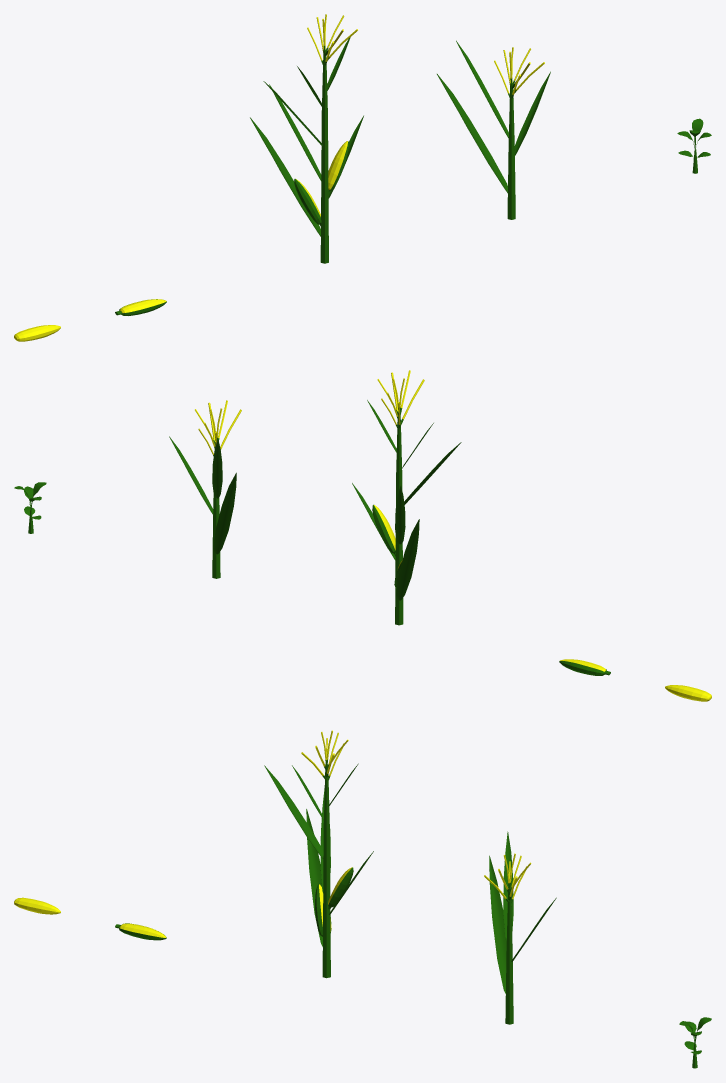
Rendered from corn.fbx.
3 renders of one model, top to bottom at view 1: azimuth 30°, elevation 25°; view 2: azimuth 150°, elevation 25°; view 3: azimuth 330°, elevation 25°, orthographic.
Parts seen in each view (by area): view 1: corn_tier3, corn_tier2, corn_tier1, corn_new; view 2: corn_tier3, corn_tier2, corn_new; view 3: corn_tier3, corn_tier2, corn_new.
Boxes of the visible parts, x1,y1,x2,y2 form: corn_tier3: [250, 14, 363, 263]; corn_tier2: [437, 40, 550, 219]; corn_tier1: [677, 118, 711, 173]; corn_new: [115, 299, 166, 315]; corn_tier3: [352, 370, 461, 625]; corn_tier2: [169, 400, 241, 578]; corn_new: [559, 659, 610, 675]; corn_tier3: [264, 730, 373, 978]; corn_tier2: [484, 831, 556, 1024]; corn_new: [115, 923, 166, 940].
Size of the model in its own units: 5240 by 1812 by 608.
